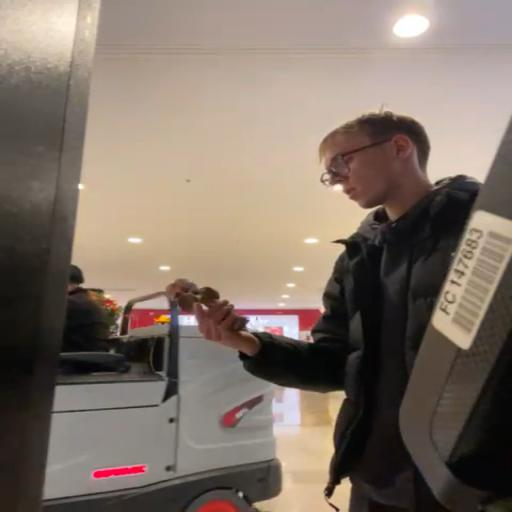kendama_ball: (166, 278, 198, 304)
